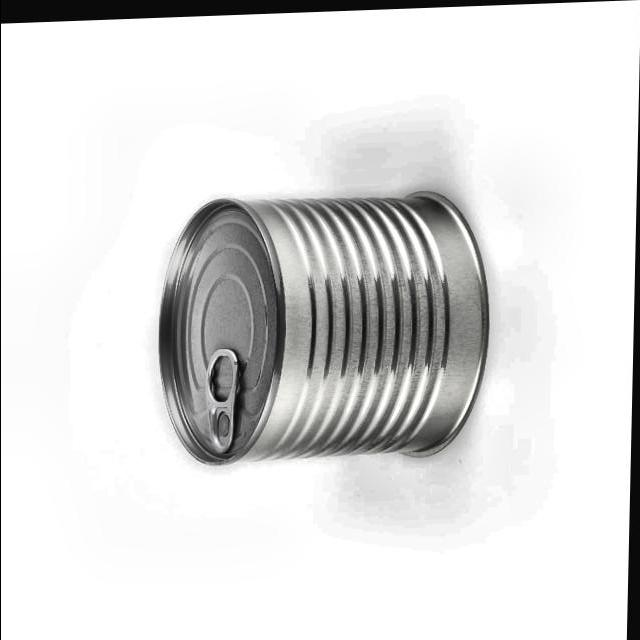Aluminum Can: (140, 178, 504, 472)
